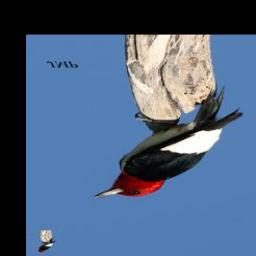Woodpecker: (87, 86, 249, 199)
